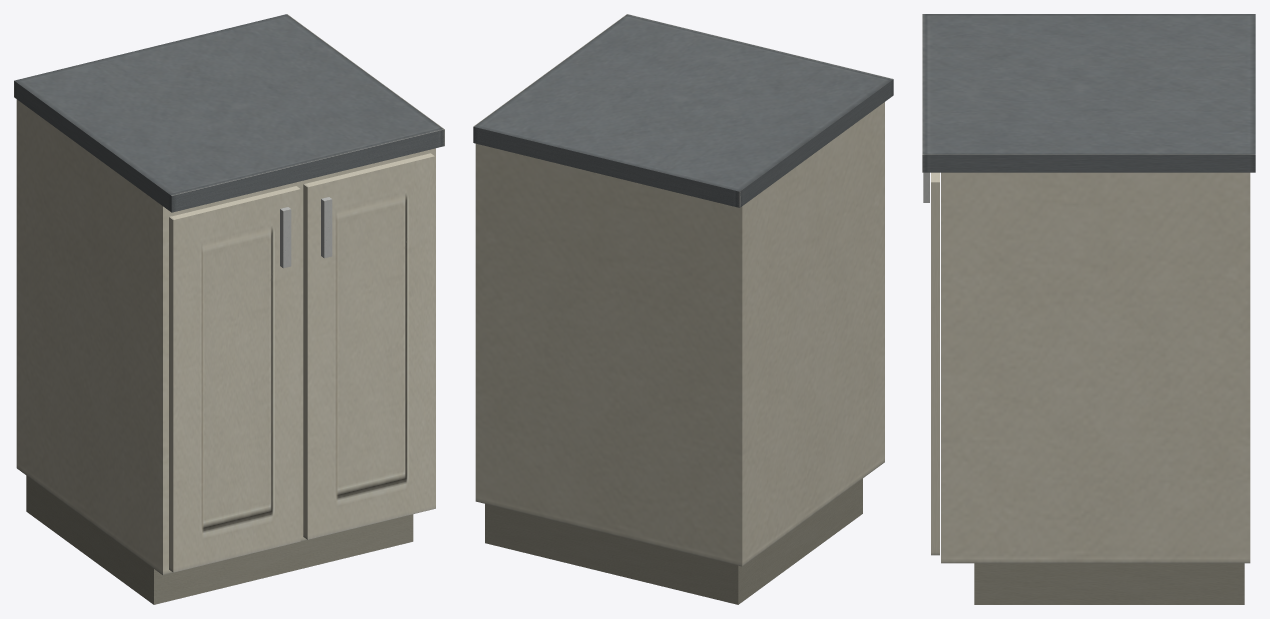
The model's file is cabinet_base.glb.
3 views of the same model, side by side, from view 1: azimuth 30°, elevation 25°; view 2: azimuth 150°, elevation 25°; view 3: azimuth 270°, elevation 25° (orthographic). The views are drawn at different scales.
Parts seen in each view (by area): view 1: home_cabinet_base; view 2: home_cabinet_base; view 3: home_cabinet_base.
Part boxes in pixels (x1,y1,x2,y2): home_cabinet_base: (14, 14, 444, 604); home_cabinet_base: (473, 14, 893, 604); home_cabinet_base: (922, 14, 1255, 604).
Bounding box in the file's own units: 0.6 × 0.9 × 0.6.
1 material, 1 textured.
